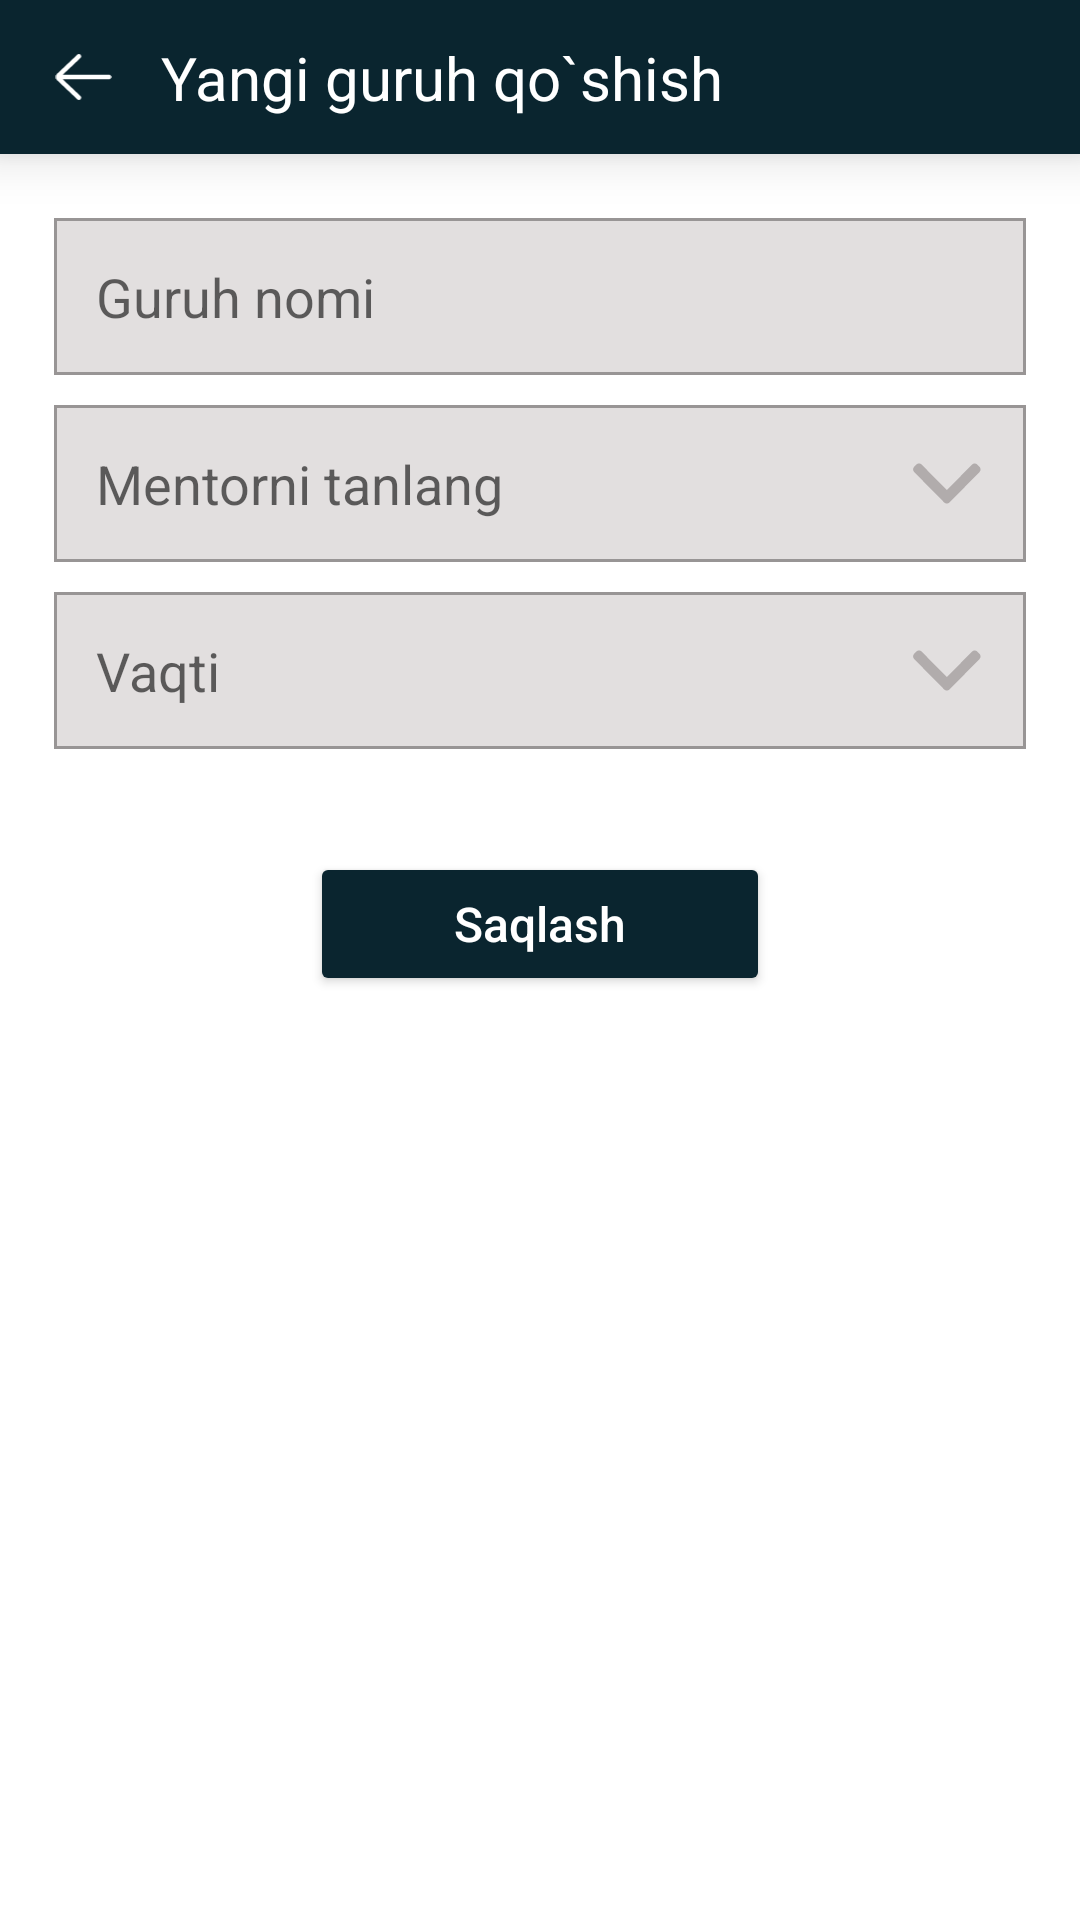

Icon bounding boxes for this 1080 x 1920 phone screenshot, format (x1, y1, x2, y2):
back: (55, 54, 112, 100)
bottom: (913, 463, 981, 504), (913, 650, 981, 691)
